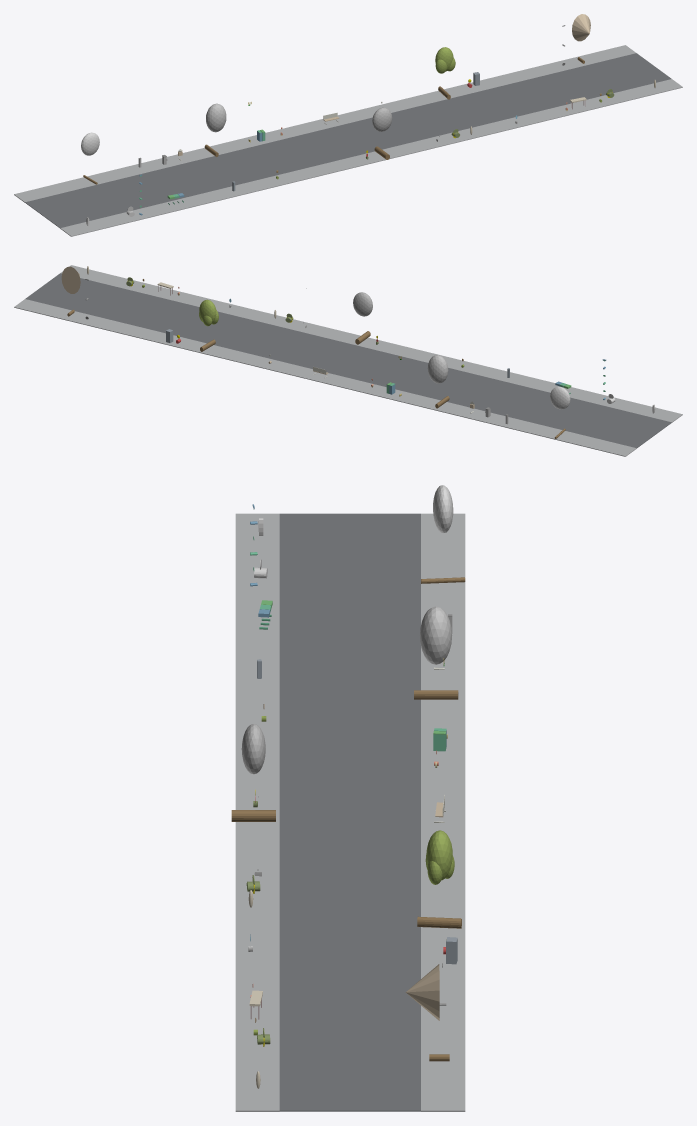
3 views of the same model, one above another, from view 1: azimuth 30°, elevation 25°; view 2: azimuth 150°, elevation 25°; view 3: azimuth 270°, elevation 25° (orthographic). The views are drawn at different scales.
Visible parts, largest first — view 1: road_slab, sidewalk_left, sidewalk_right, inst_0013, inst_0015, inst_0014, inst_0016, inst_0012; view 2: road_slab, sidewalk_right, sidewalk_left, inst_0013, inst_0015, inst_0014, inst_0016, inst_0012; view 3: road_slab, sidewalk_left, sidewalk_right, inst_0013, inst_0015, inst_0014, inst_0016, inst_0012.
Boxes of the visible parts, x1,y1,x2,y2 form: road_slab: (25, 53, 671, 228); sidewalk_left: (60, 79, 682, 236); sidewalk_right: (14, 45, 635, 202); inst_0013: (204, 103, 226, 156); inst_0015: (435, 47, 455, 99); inst_0014: (372, 107, 392, 159); inst_0016: (572, 14, 590, 63); inst_0012: (81, 132, 99, 184); road_slab: (25, 273, 671, 448); sidewalk_right: (14, 299, 636, 456); sidewalk_left: (60, 265, 682, 422); inst_0013: (427, 355, 449, 408); inst_0015: (199, 299, 218, 351); inst_0014: (353, 292, 372, 344); inst_0016: (61, 266, 80, 316); inst_0012: (550, 386, 570, 438); road_slab: (279, 513, 420, 1111); sidewalk_left: (235, 513, 279, 1111); sidewalk_right: (421, 513, 465, 1111); inst_0013: (414, 606, 458, 699); inst_0015: (417, 830, 461, 928); inst_0014: (231, 724, 275, 821); inst_0016: (405, 964, 449, 1061); inst_0012: (421, 485, 465, 583).
Bounding box in the file's own units: 80 × 6.08 × 13.23.
